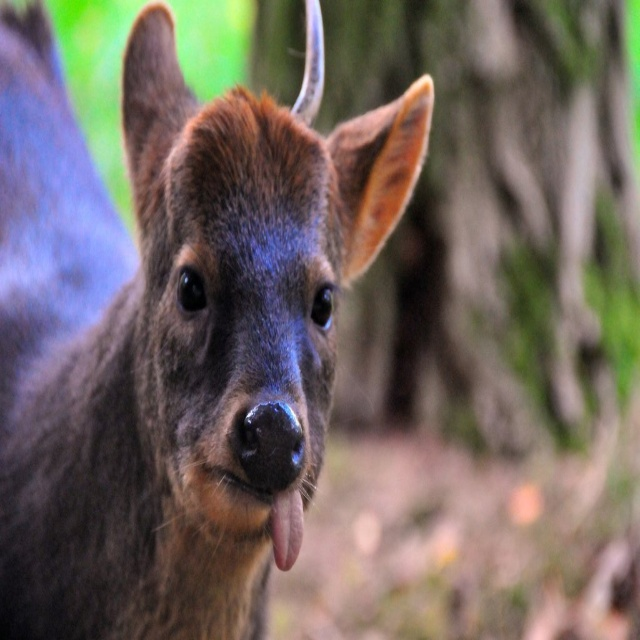Deer: (0, 0, 434, 639)
